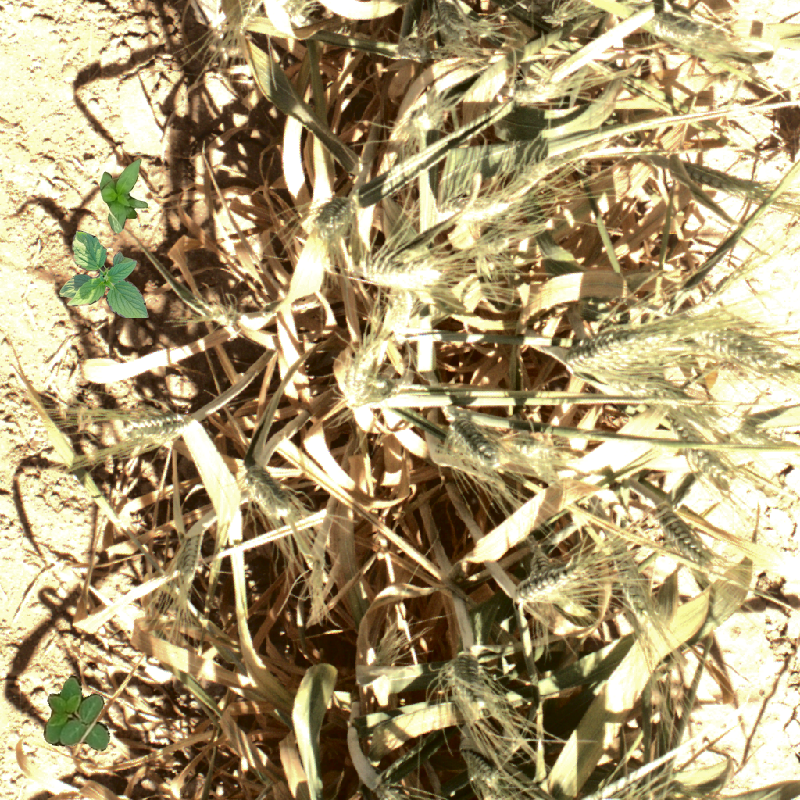spikelet: (692, 322, 793, 376), (564, 329, 674, 377), (709, 368, 799, 424), (643, 9, 728, 64), (356, 245, 444, 295), (649, 509, 719, 569), (671, 418, 730, 489), (236, 458, 294, 520), (511, 562, 585, 610), (338, 340, 388, 409), (444, 415, 504, 469), (610, 540, 650, 619), (440, 651, 494, 706), (121, 411, 188, 448), (189, 292, 244, 336), (180, 526, 208, 598), (320, 195, 357, 238)
weed: (59, 230, 149, 318), (40, 672, 120, 755), (100, 158, 148, 234)
